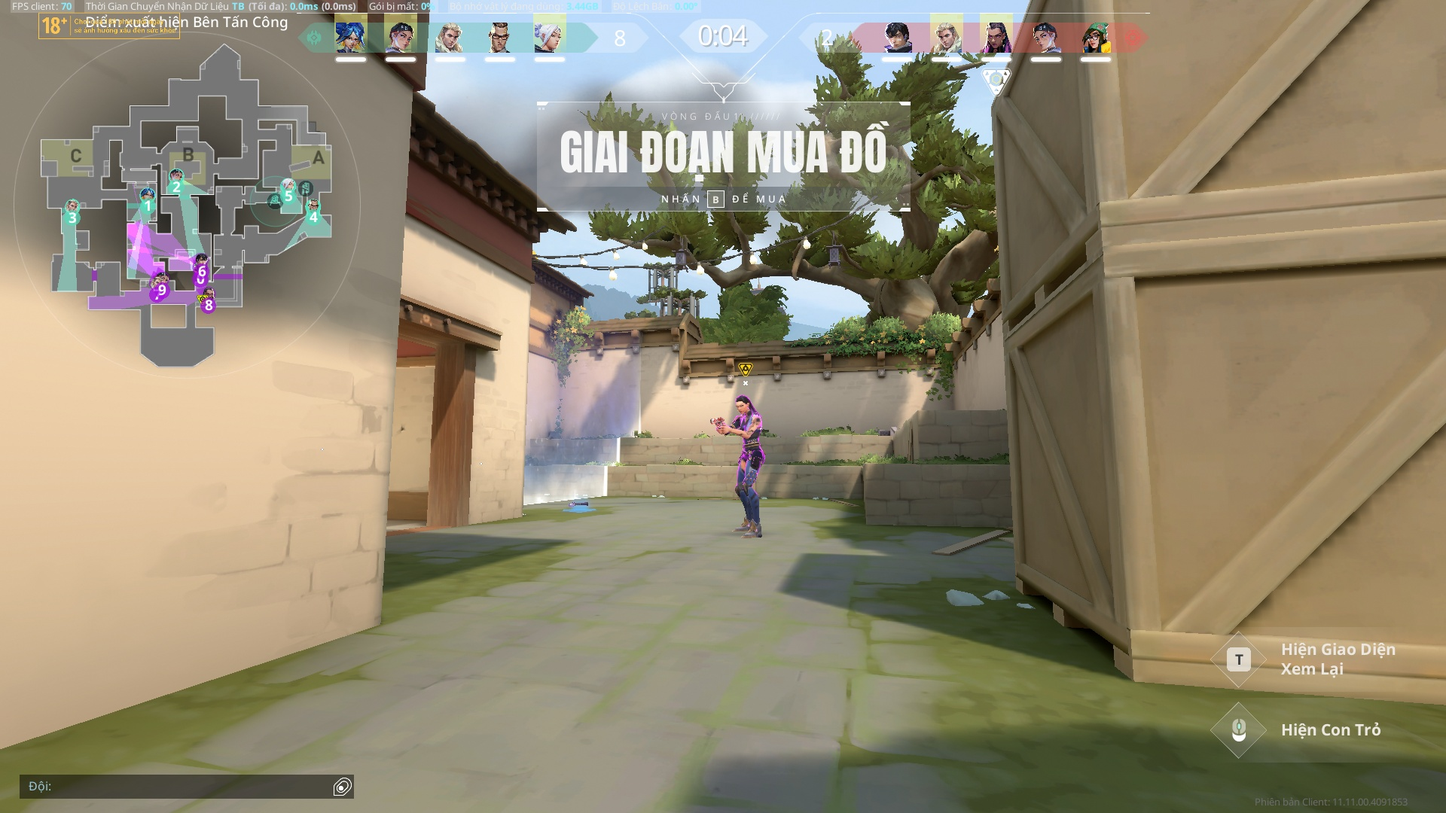body: (737, 411, 763, 444)
head: (734, 396, 750, 414)
